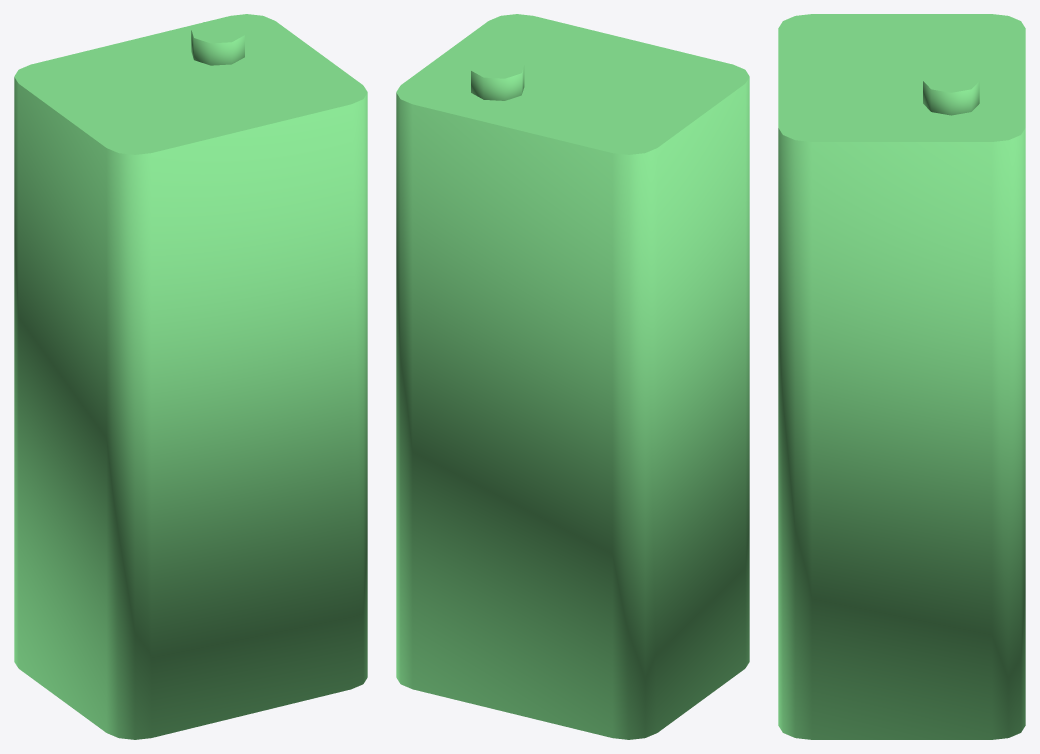
The model's file is olio_oliva_max.fbx.
3 views of the same model, side by side, from view 1: azimuth 30°, elevation 25°; view 2: azimuth 150°, elevation 25°; view 3: azimuth 270°, elevation 25° (orthographic). The views are drawn at different scales.
Parts seen in each view (by area): view 1: olio_oliva_max; view 2: olio_oliva_max; view 3: olio_oliva_max.
Part boxes in pixels (x1=…): olio_oliva_max: x1=14, y1=14, x2=367, y2=739; olio_oliva_max: x1=396, y1=14, x2=749, y2=739; olio_oliva_max: x1=778, y1=14, x2=1025, y2=739.
Size of the model in its own units: 125 by 282 by 102.
